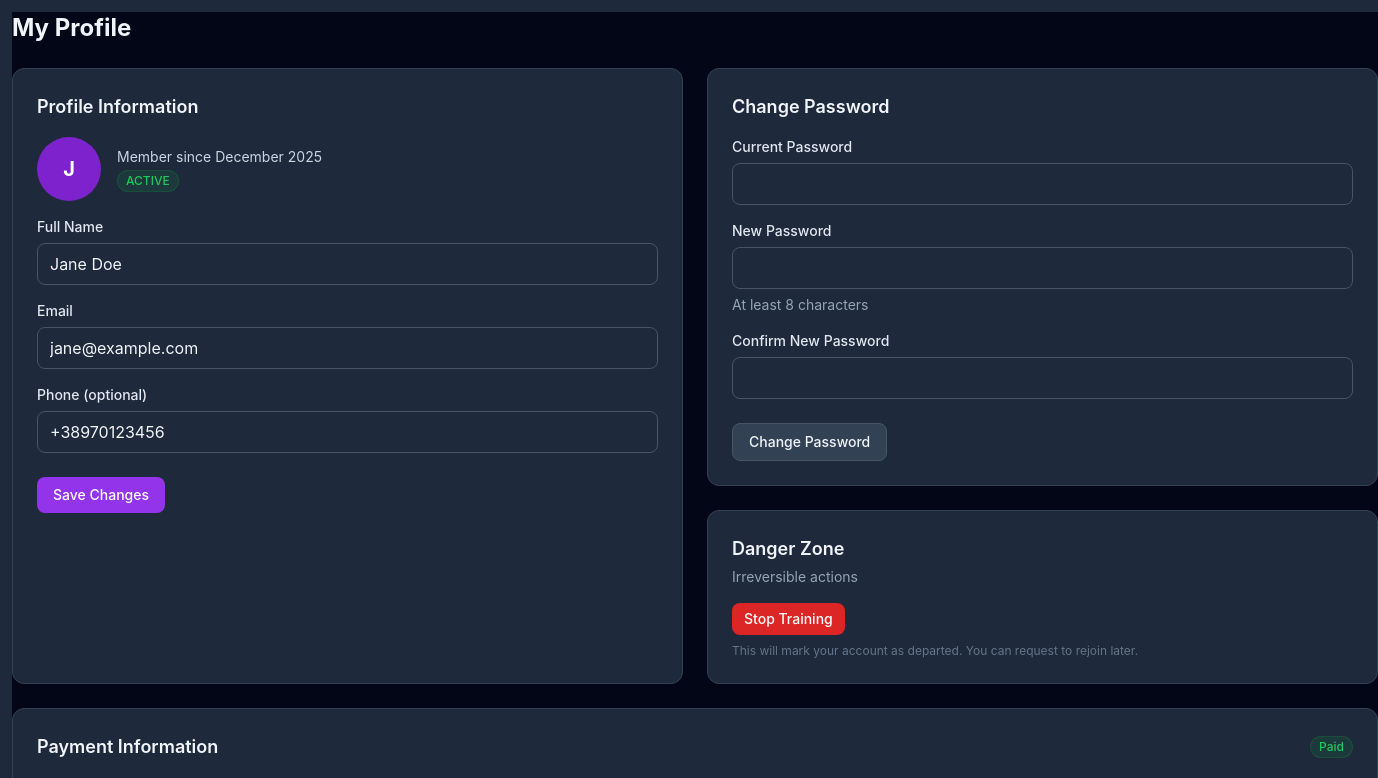
ProfileClient › profile form interactions › shows validation error for empty name
Clear name
Clear the field labelled "Full Name". click: (348, 264)
box: [37, 243, 658, 285]
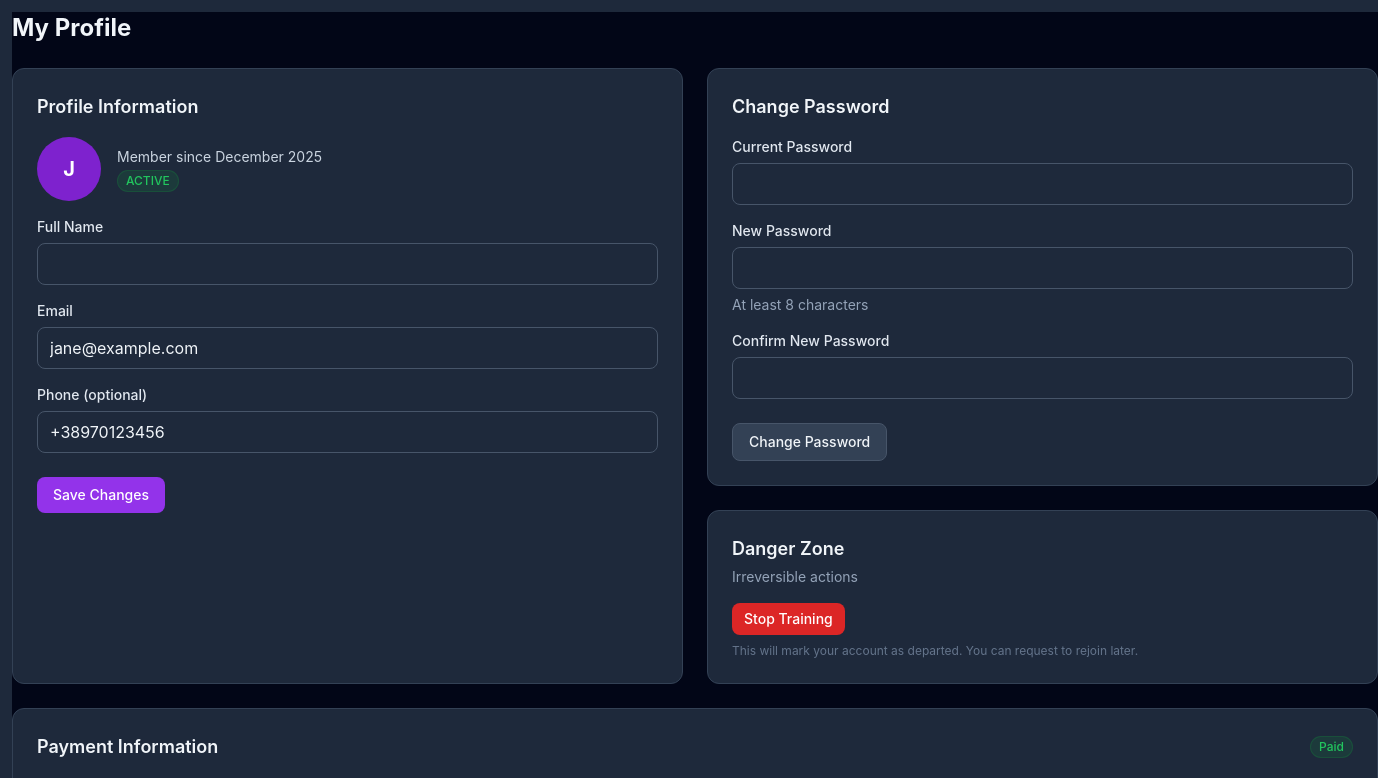
Click the button "Save Changes". click: (101, 495)
box: [37, 477, 165, 513]
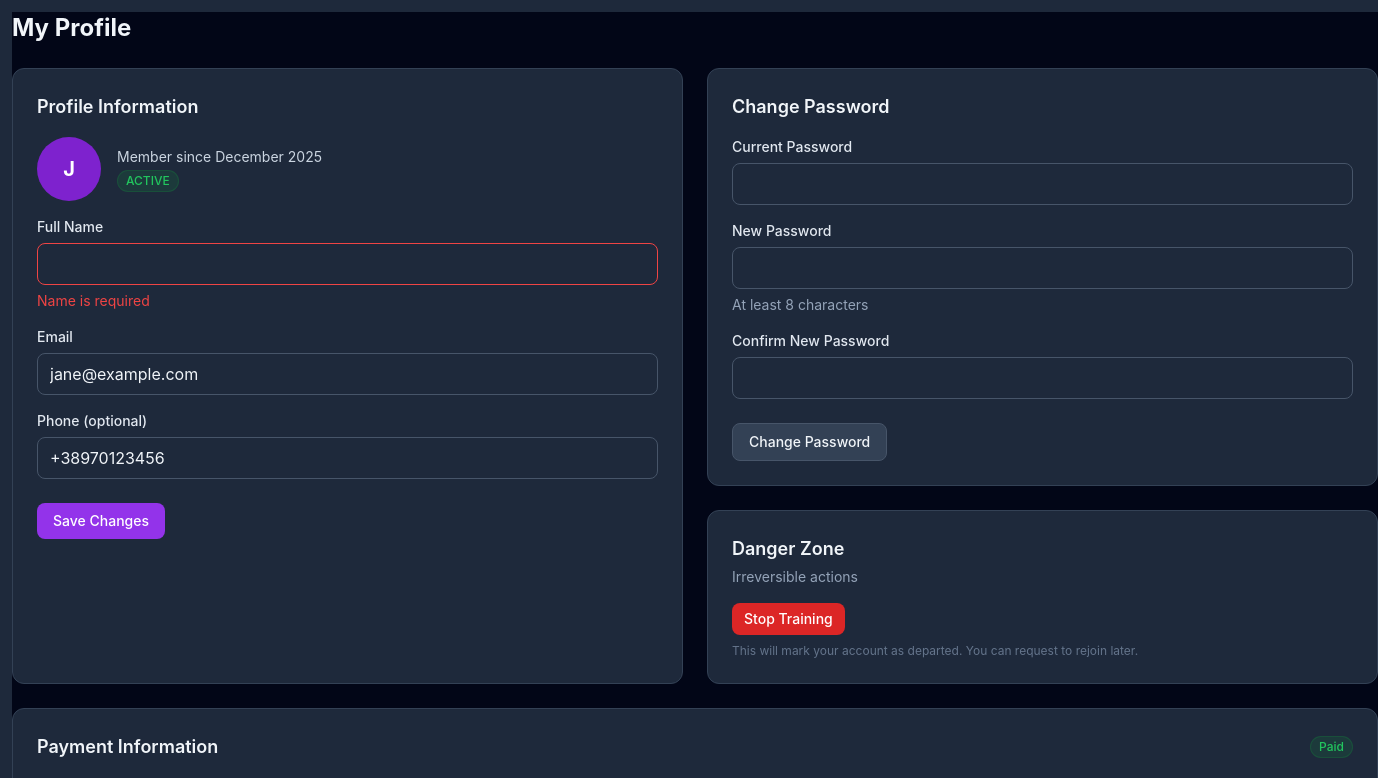
Result: the text "Name is required" is shown at [37, 292, 150, 309]
